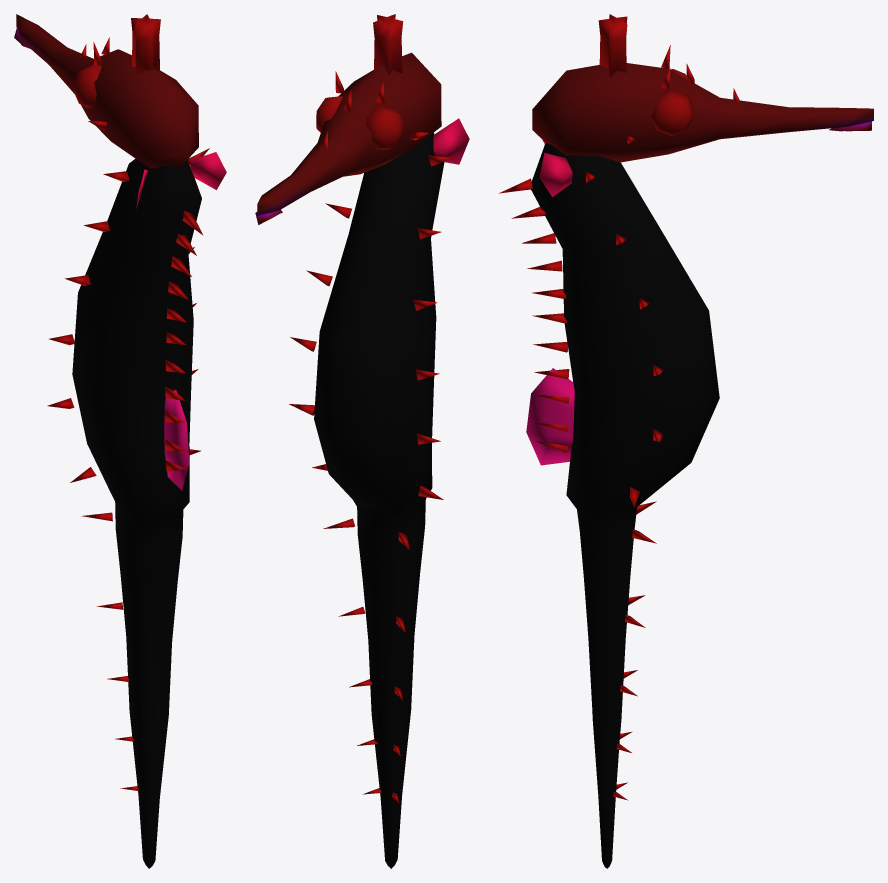
The model's file is seahorse_spiny_lo.glb.
3 views of the same model, side by side, from view 1: azimuth 30°, elevation 25°; view 2: azimuth 150°, elevation 25°; view 3: azimuth 270°, elevation 25° (orthographic).
Visible parts, largest first — view 1: seahorse_spiny_lo; view 2: seahorse_spiny_lo; view 3: seahorse_spiny_lo.
Part boxes in pixels (bbox=[...]): seahorse_spiny_lo: bbox=[14, 14, 226, 868]; seahorse_spiny_lo: bbox=[255, 14, 469, 868]; seahorse_spiny_lo: bbox=[498, 14, 873, 868].
Bounding box in the file's own units: 0.0283 × 0.15 × 0.0602.
